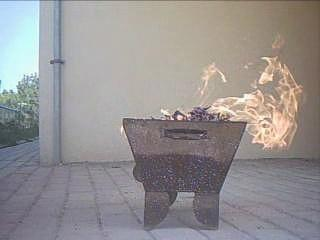fire: (203, 62, 302, 153)
